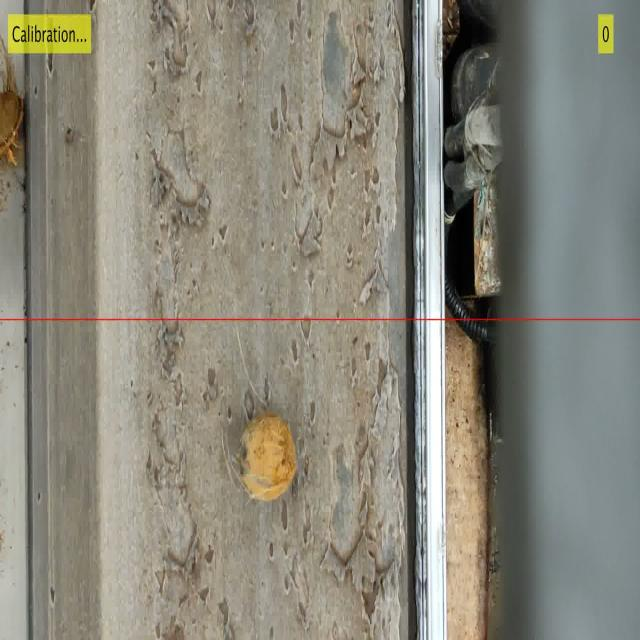Coconut-Conveyor-Belt: (237, 411, 297, 502), (0, 38, 24, 165)
